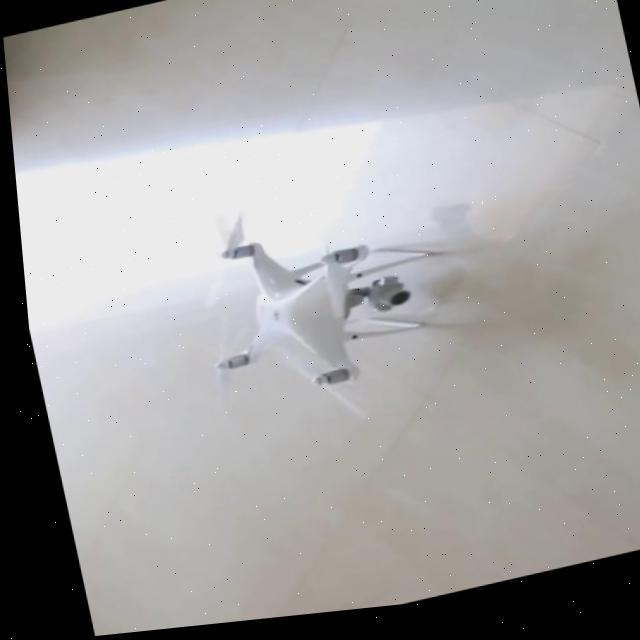drones: (133, 176, 488, 467)
